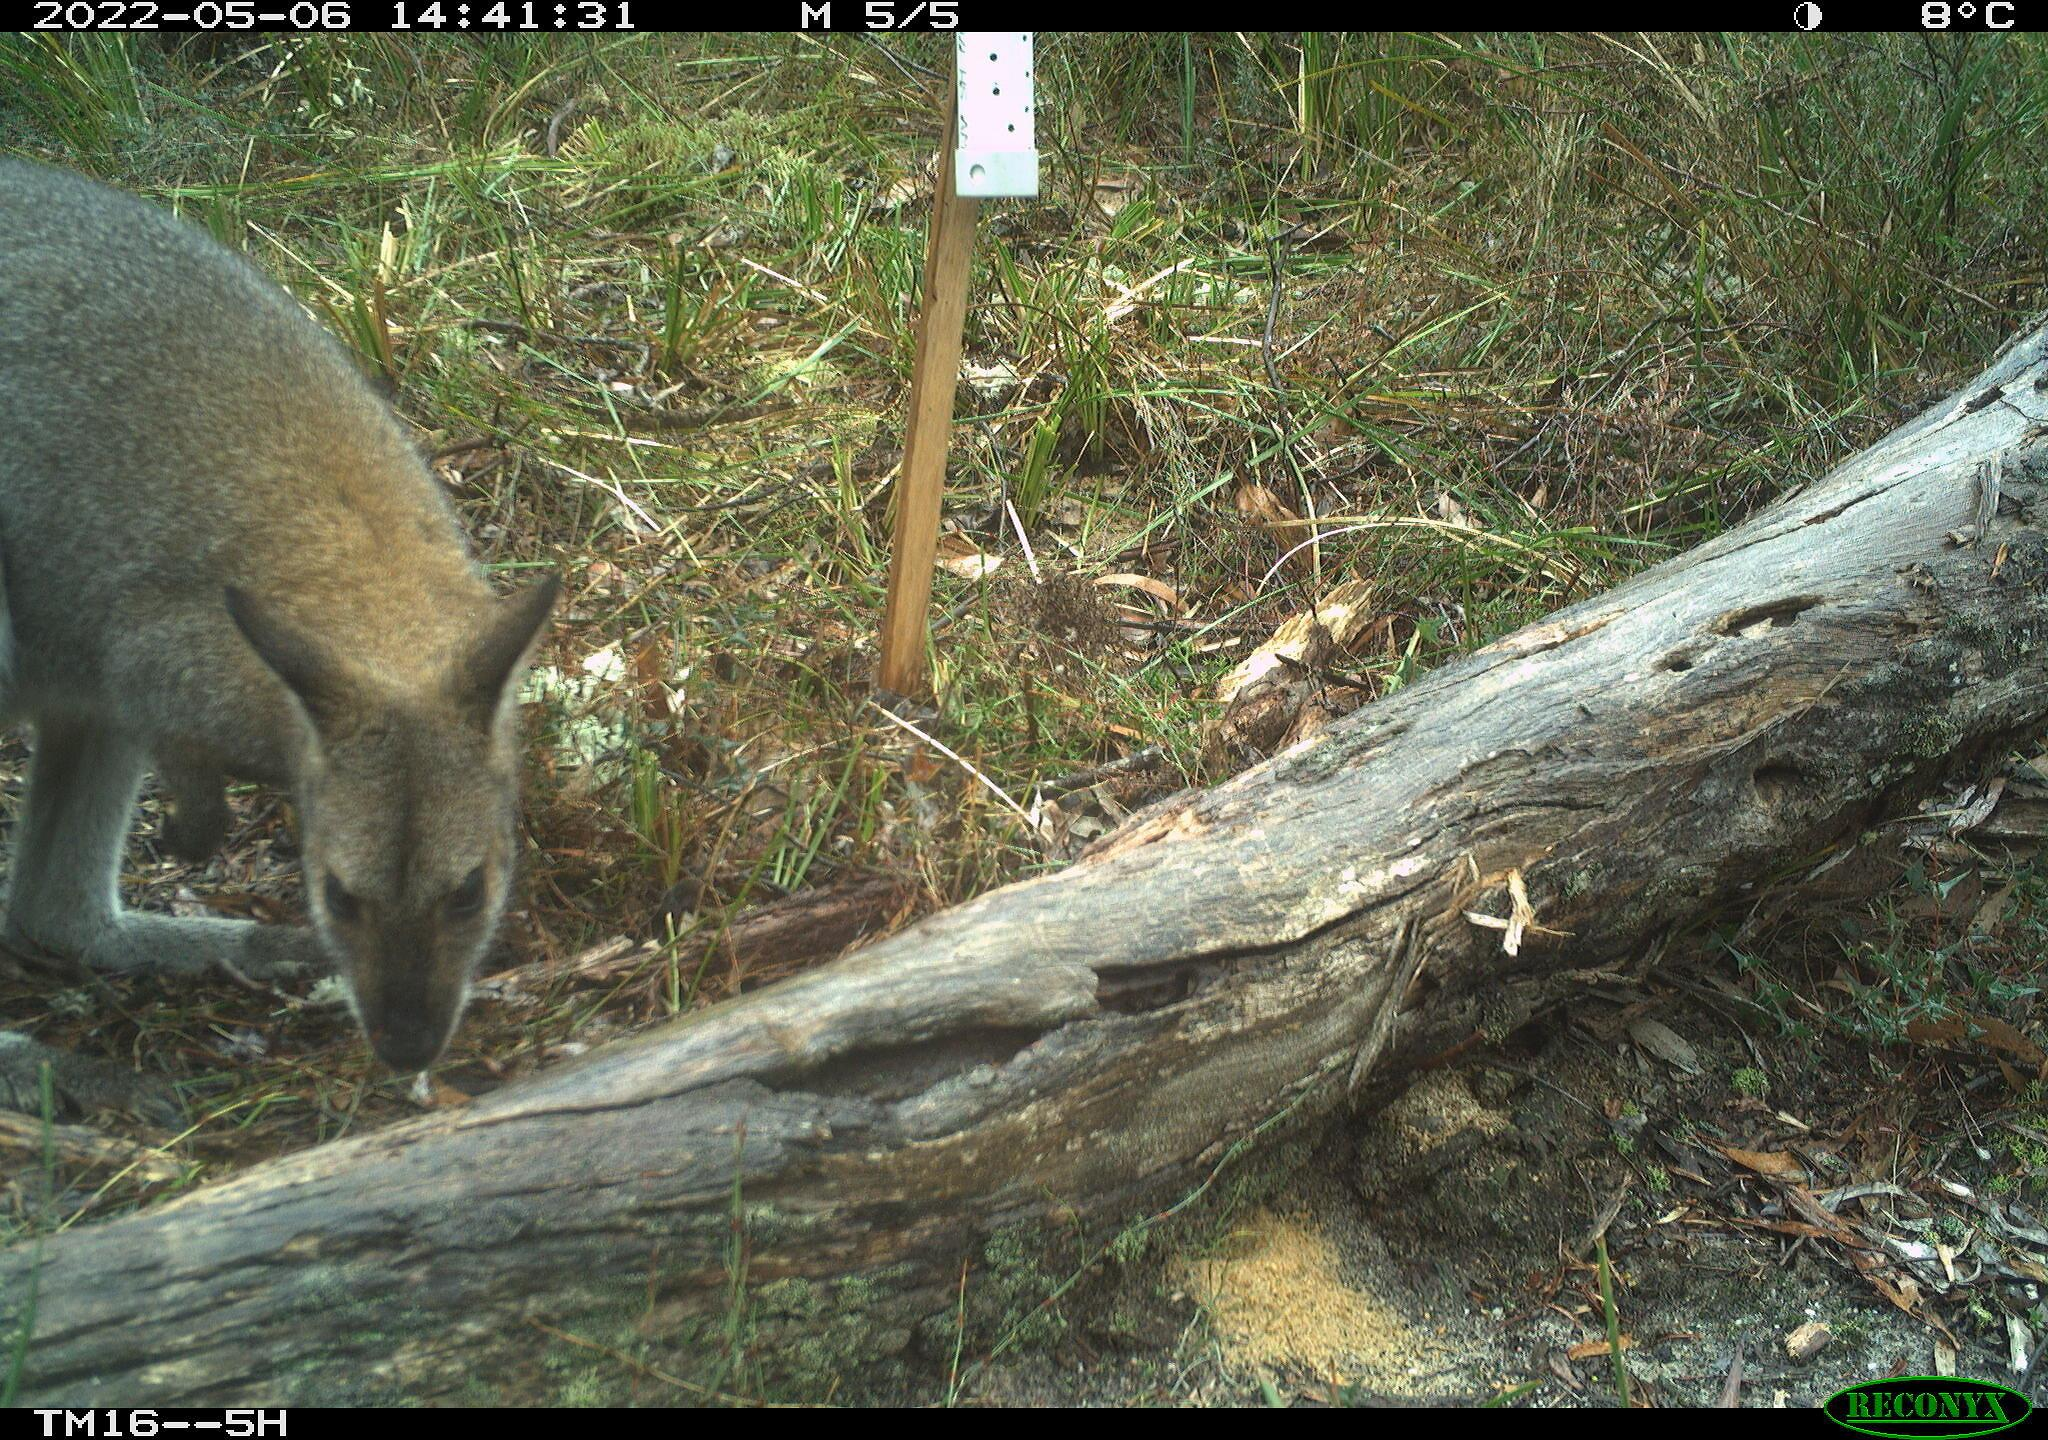Swamp wallaby: (12, 153, 578, 1088)
